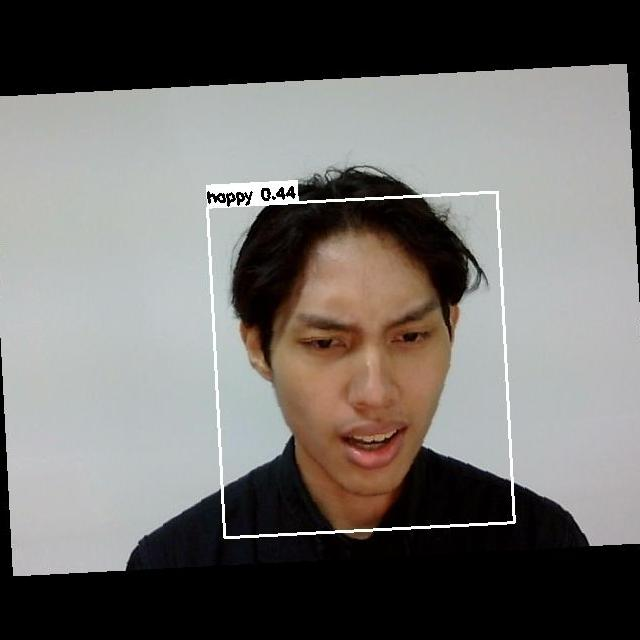Angry: (238, 284, 468, 477)
